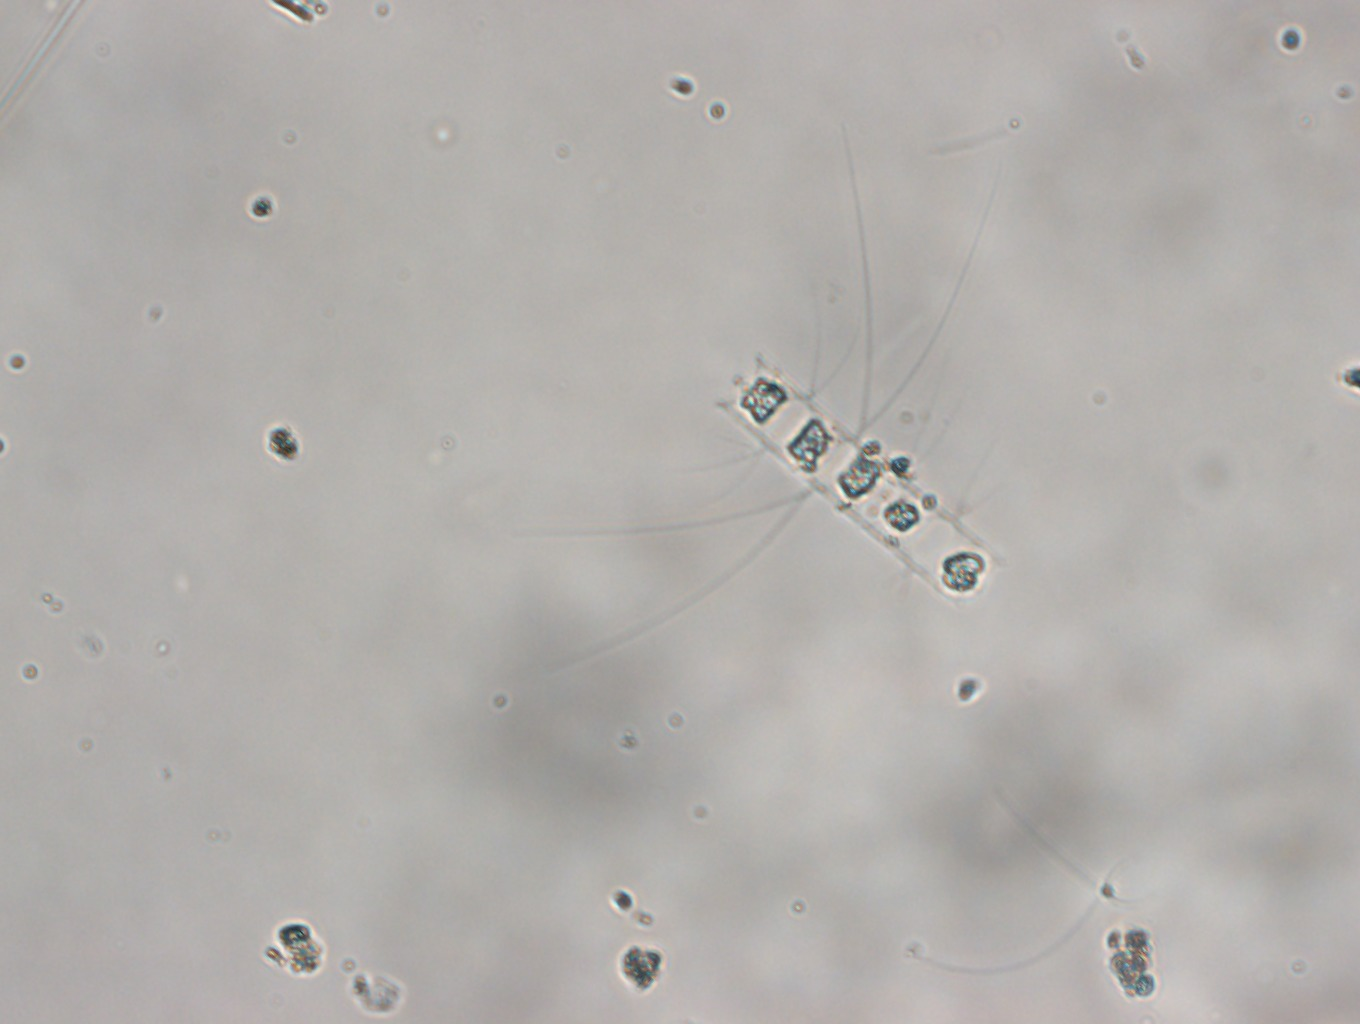chaetoceros: (567, 171, 1047, 669)
